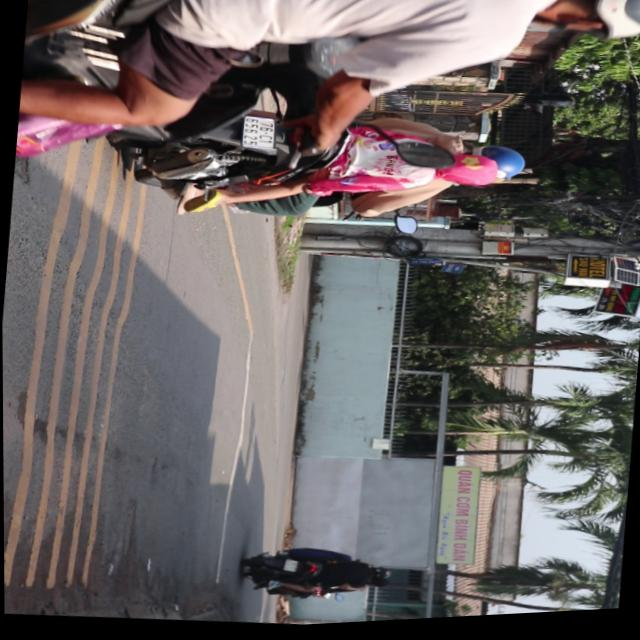helmet: (532, 0, 640, 54), (442, 154, 497, 193), (480, 147, 528, 187)
licenseplate: (13, 0, 640, 212), (101, 83, 537, 252)
nohelmet: (243, 117, 276, 152)
